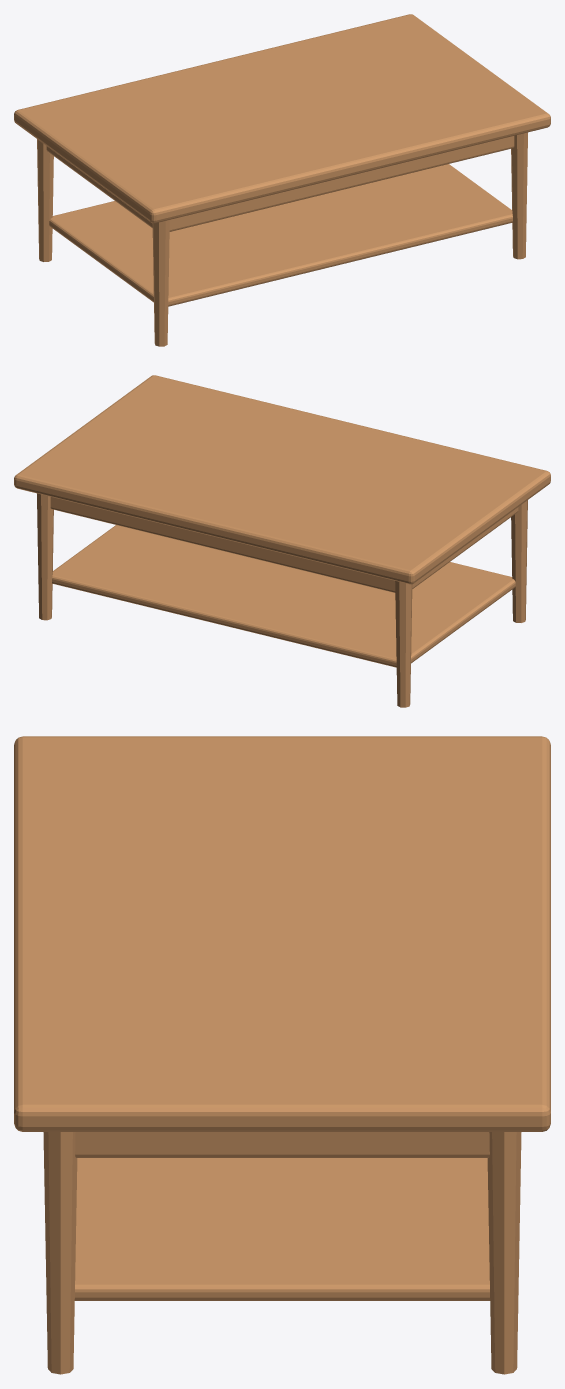
File: coffee-table.glb
3 renders of one model, top to bottom at view 1: azimuth 30°, elevation 25°; view 2: azimuth 150°, elevation 25°; view 3: azimuth 270°, elevation 25°, orthographic. The views are drawn at different scales.
Visible parts, largest first — view 1: coffee-table; view 2: coffee-table; view 3: coffee-table.
Boxes of the visible parts, x1,y1,x2,y2 form: coffee-table: (14,14,550,346); coffee-table: (14,375,550,707); coffee-table: (14,736,550,1374).
Bounding box in the file's own units: 1.52 × 0.53 × 0.92.
